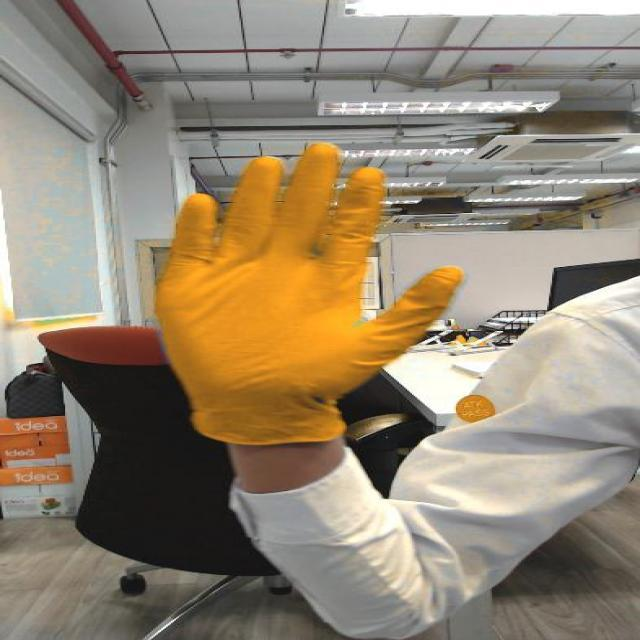Glove: (142, 134, 459, 454)
